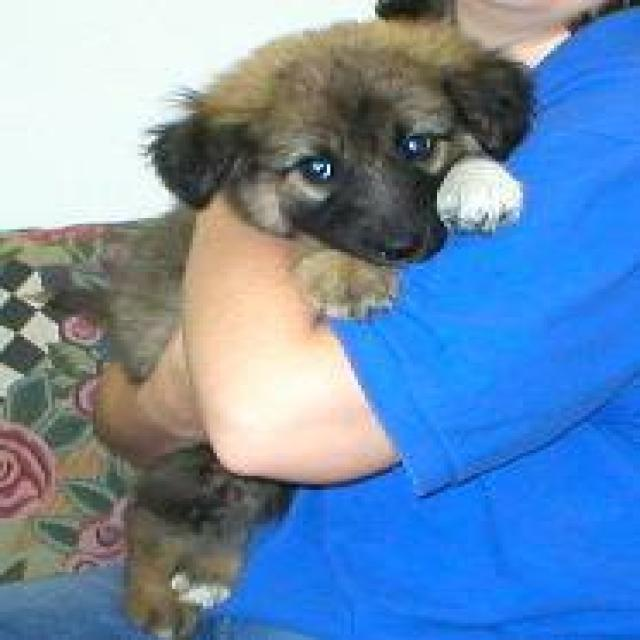cat: (82, 15, 545, 640)
